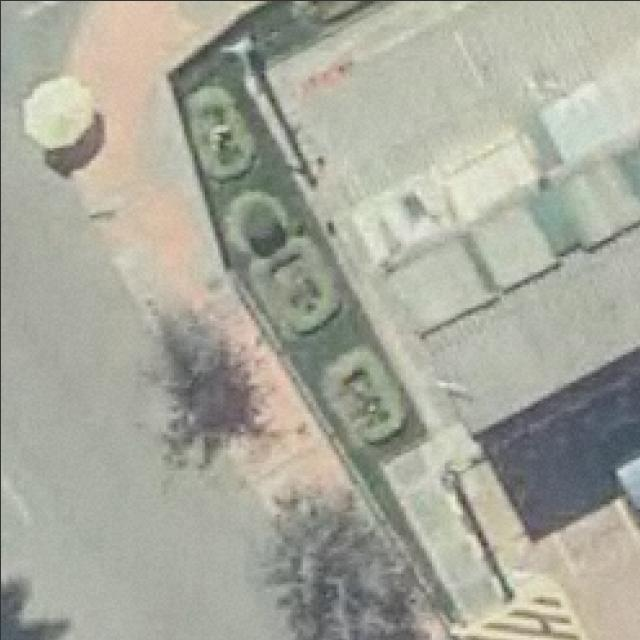vendedor_ambulante: (18, 74, 99, 155)
